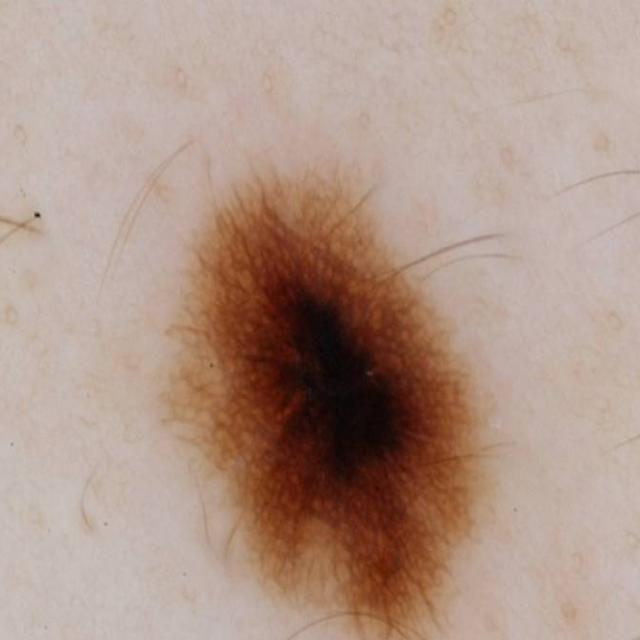Melanoma: (140, 168, 559, 640)
